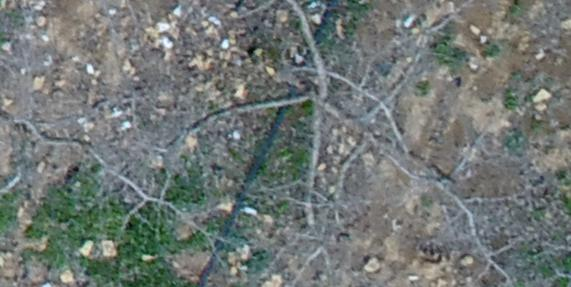apple: (170, 10, 527, 276), (10, 12, 252, 272)
